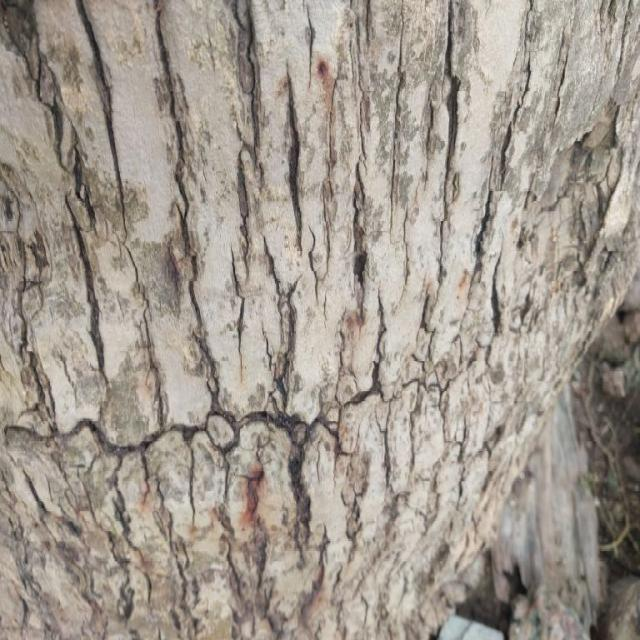stembleeding: (197, 434, 287, 558), (140, 207, 222, 339), (302, 45, 358, 134)
